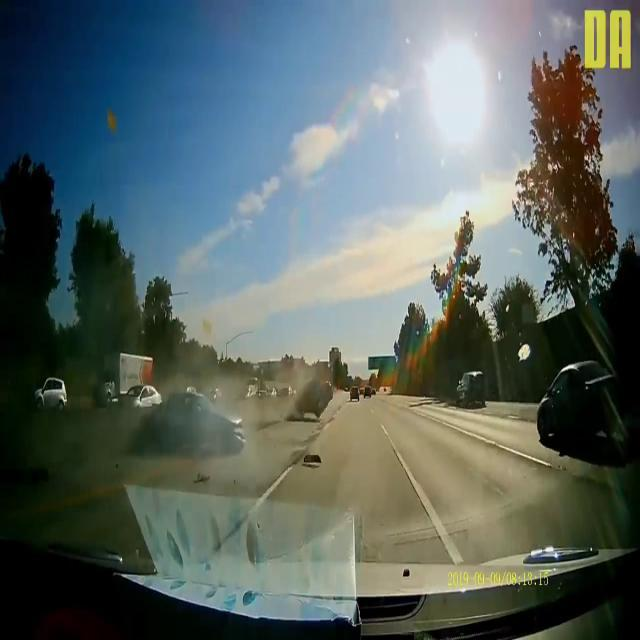multiple_accident: (115, 355, 277, 482), (253, 345, 345, 447)
